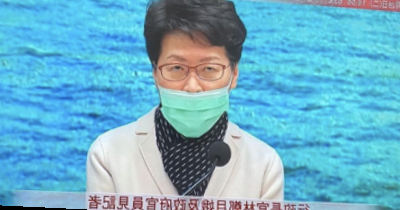mask_weared_incorrect: (139, 2, 260, 152)
